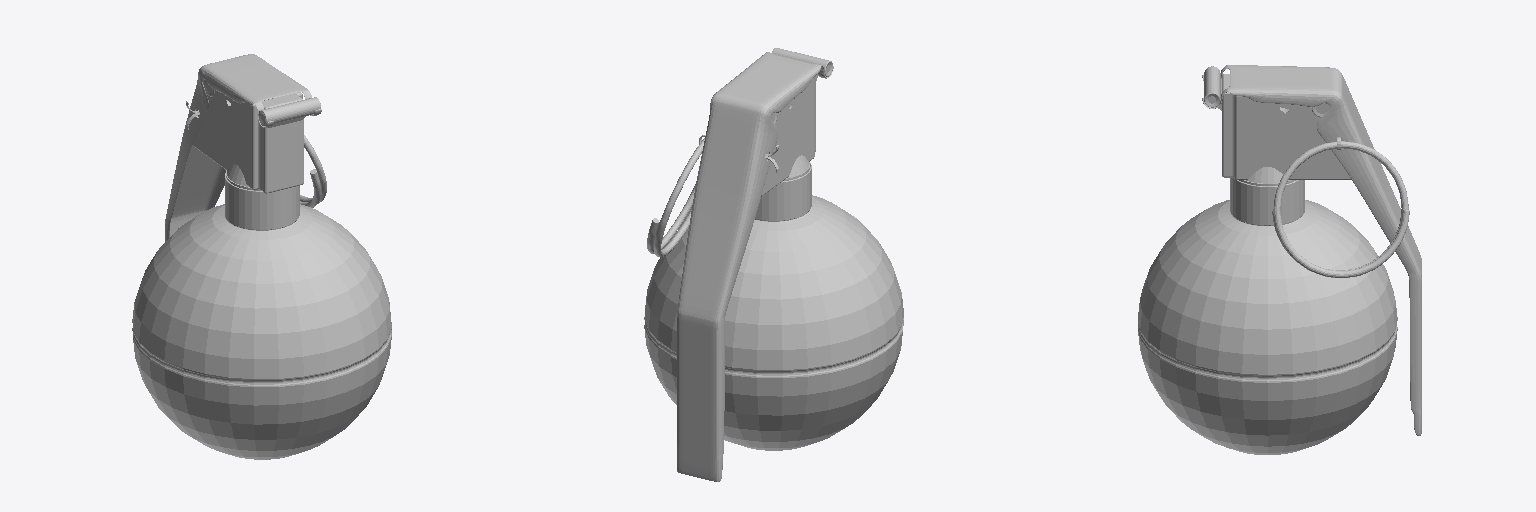
File: M67_Trainer.obj
3 renders of one model, left to right at view 1: azimuth 30°, elevation 25°; view 2: azimuth 150°, elevation 25°; view 3: azimuth 270°, elevation 25°, orthographic.
Parts seen in each view (by area): view 1: M67; view 2: M67; view 3: M67.
Part boxes in pixels (x1,y1,x2,y2): M67: (132, 54, 391, 459); M67: (644, 48, 903, 481); M67: (1138, 65, 1421, 454).
Size of the model in its own units: 0.0796 by 0.1208 by 0.0871.